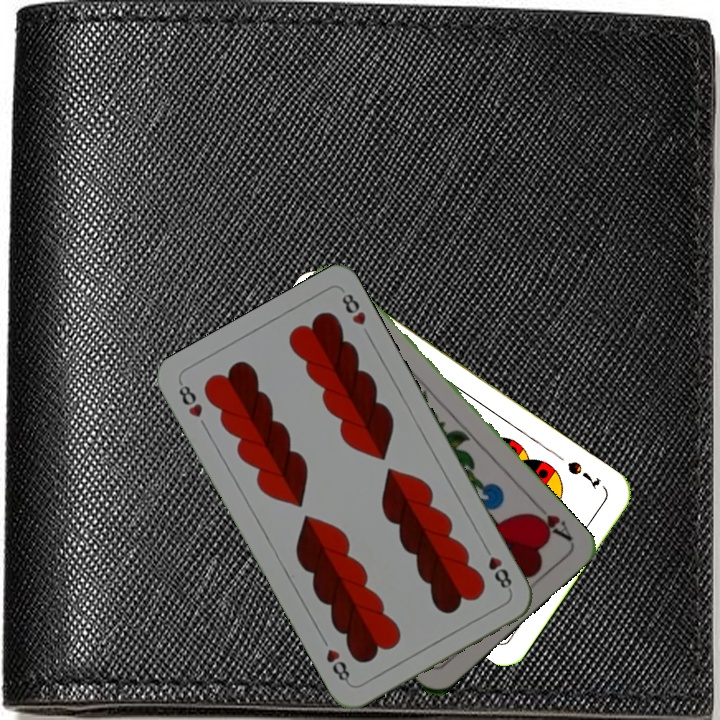H8: (479, 541, 515, 595), (174, 379, 205, 420)
HA: (525, 497, 575, 544)
S7: (563, 457, 603, 493)
